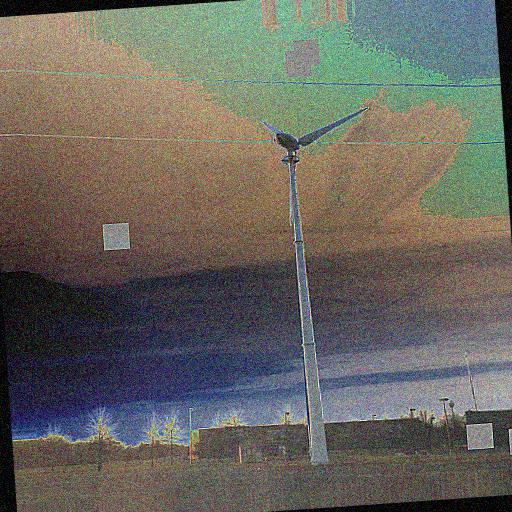wind turbine: (256, 106, 370, 461)
